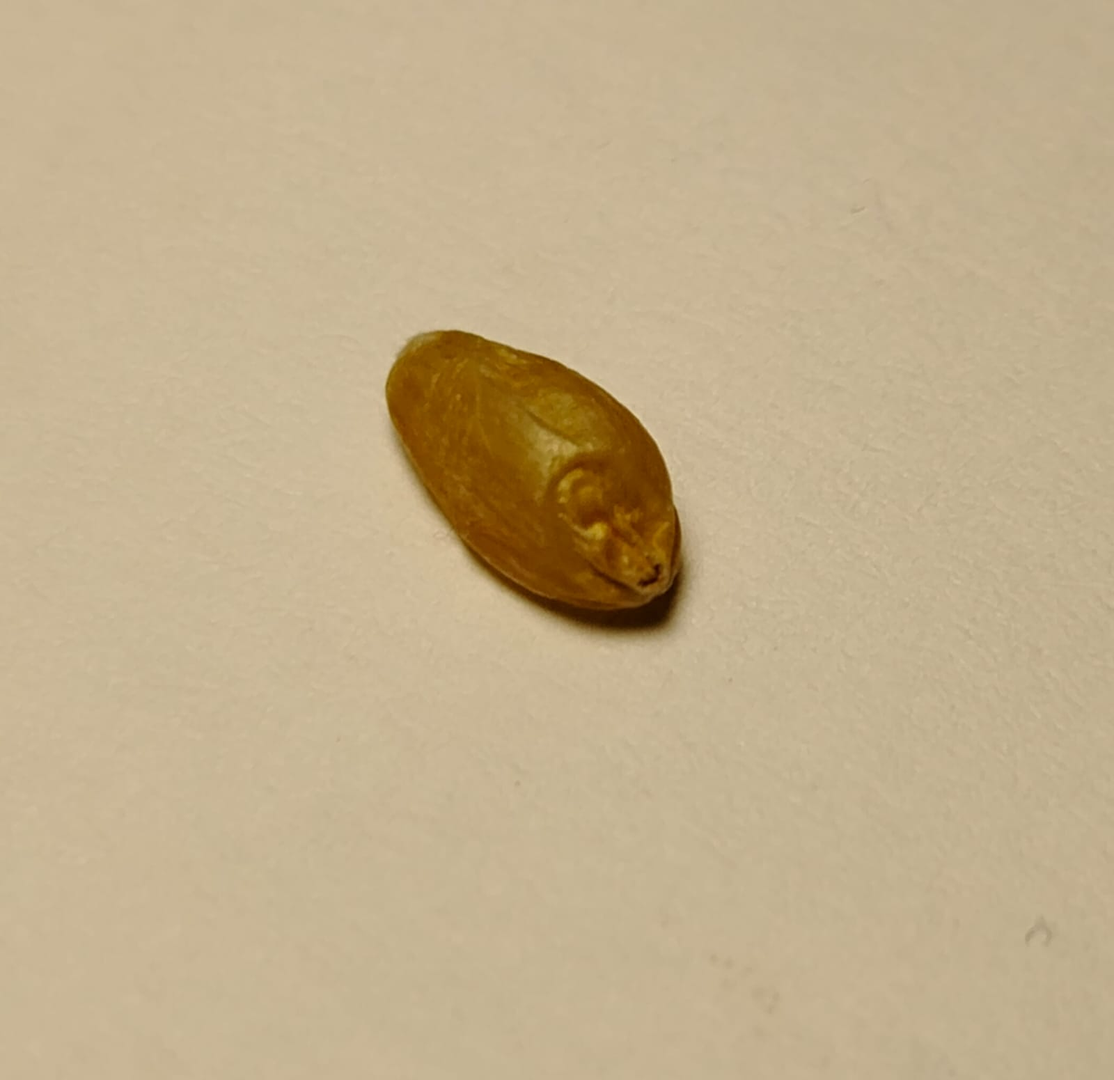healthy: (386, 331, 680, 611)
